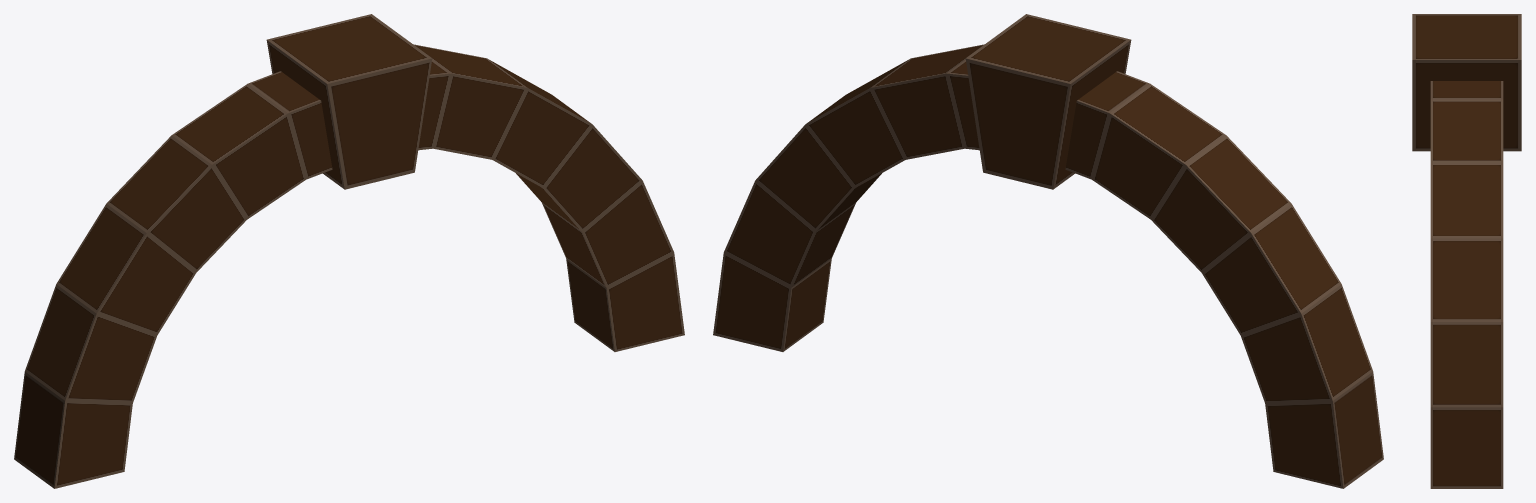
Rendered from KeyAtTheSummitArch.obj.
The picture shows the model from 3 angles, left to right: view 1: azimuth 30°, elevation 25°; view 2: azimuth 150°, elevation 25°; view 3: azimuth 270°, elevation 25°; orthographic projection. The views are drawn at different scales.
Parts seen in each view (by area): view 1: KeyAtTheSummitArch; view 2: KeyAtTheSummitArch; view 3: KeyAtTheSummitArch.
Part boxes in pixels (x1,y1,x2,y2): KeyAtTheSummitArch: (14,14,684,488); KeyAtTheSummitArch: (713,14,1383,488); KeyAtTheSummitArch: (1412,14,1521,488).
Size of the model in its own units: 18 by 9.5 by 3.
